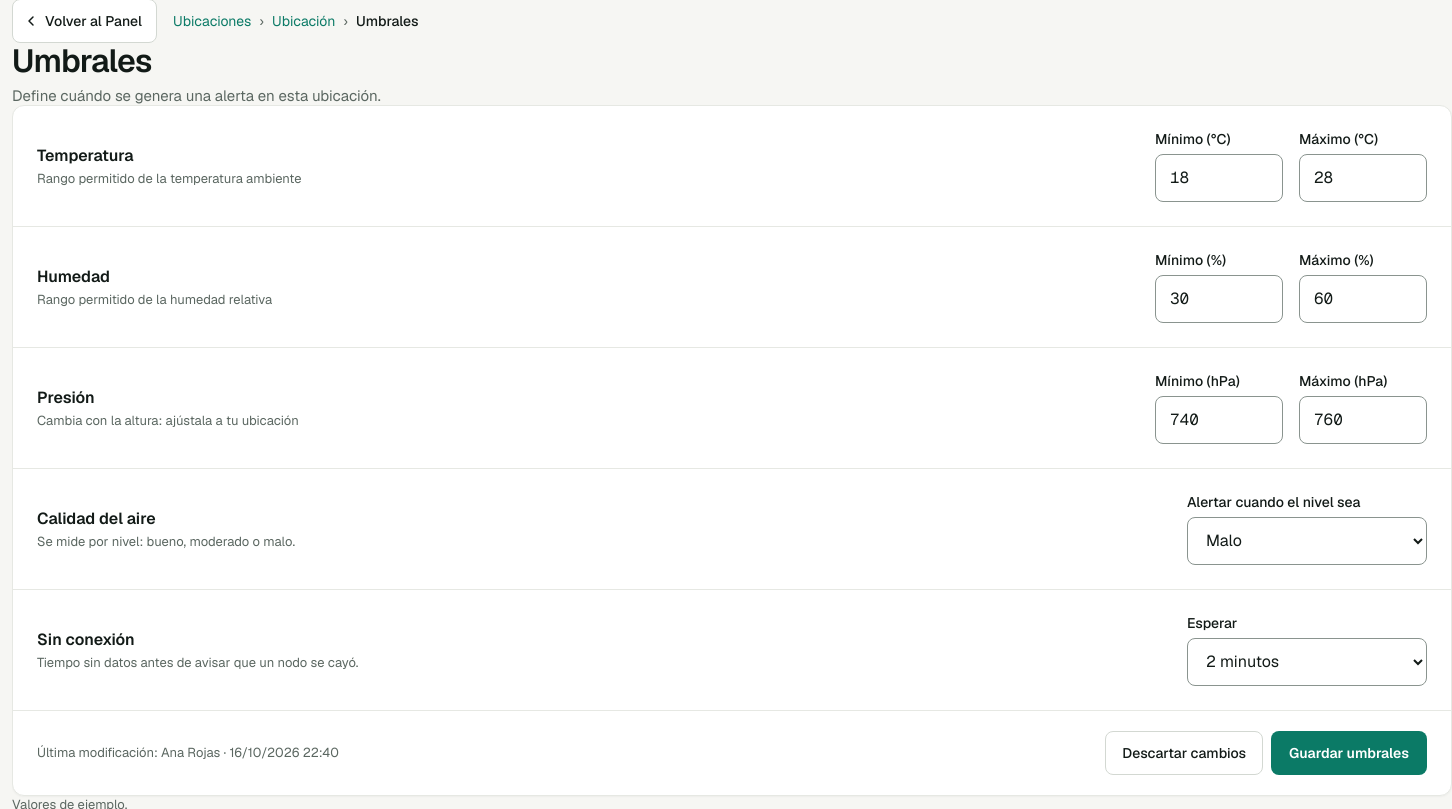
Test: Umbrales › bloquea guardar si el mínimo es inválido: 28
The width and height of the screenshot is (1452, 809).
Replace the text in the number field named "Temperatura: mínimo (°C)" with "28" at (1219, 178), box left=1155, top=154, right=1283, bottom=202
(page scrolled)
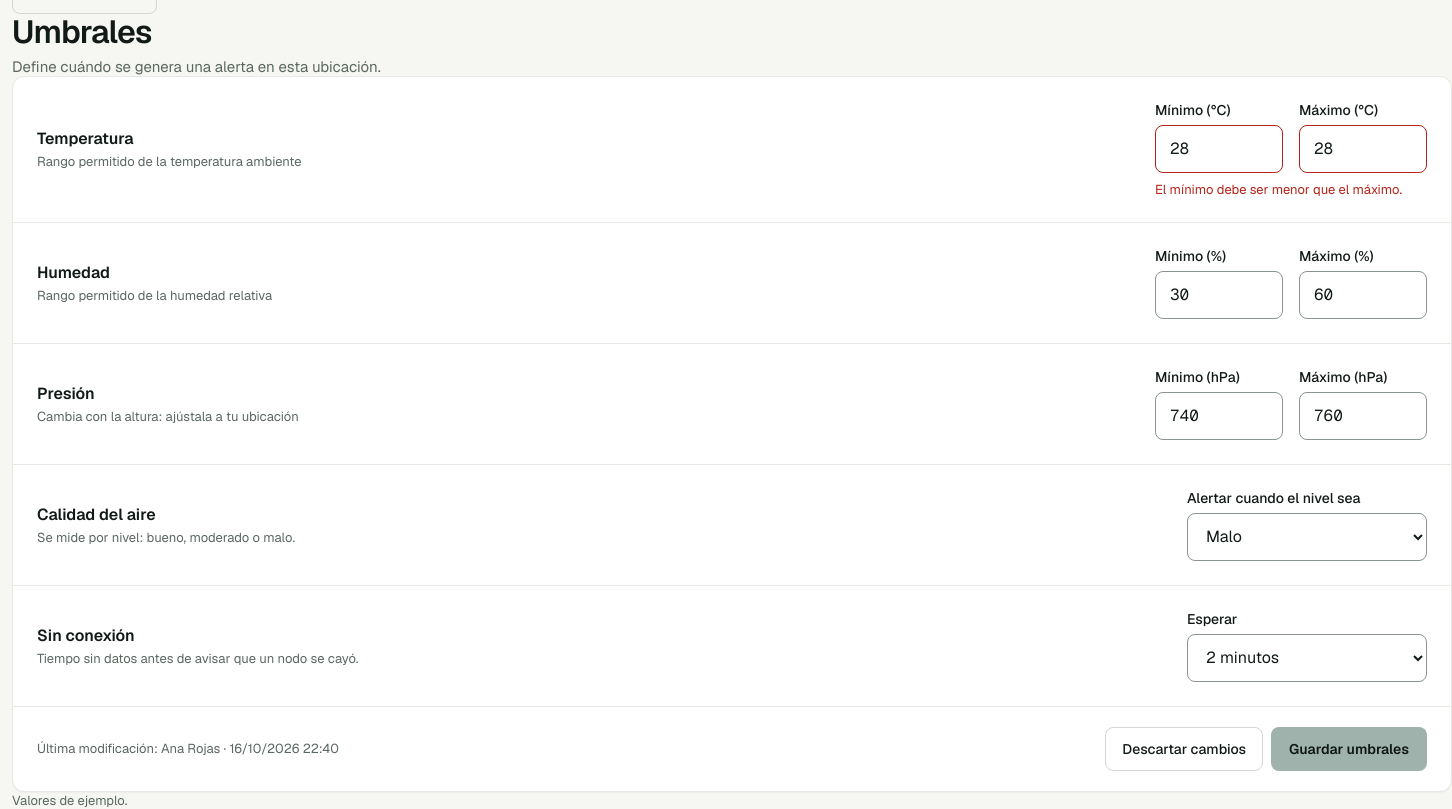
Now the button "Guardar umbrales" is disabled, box left=1271, top=727, right=1427, bottom=771
Submit the form
Replace the text in the number field named "Temperatura: mínimo (°C)" with "19" at (1219, 149), box left=1155, top=125, right=1283, bottom=173
(page scrolled)
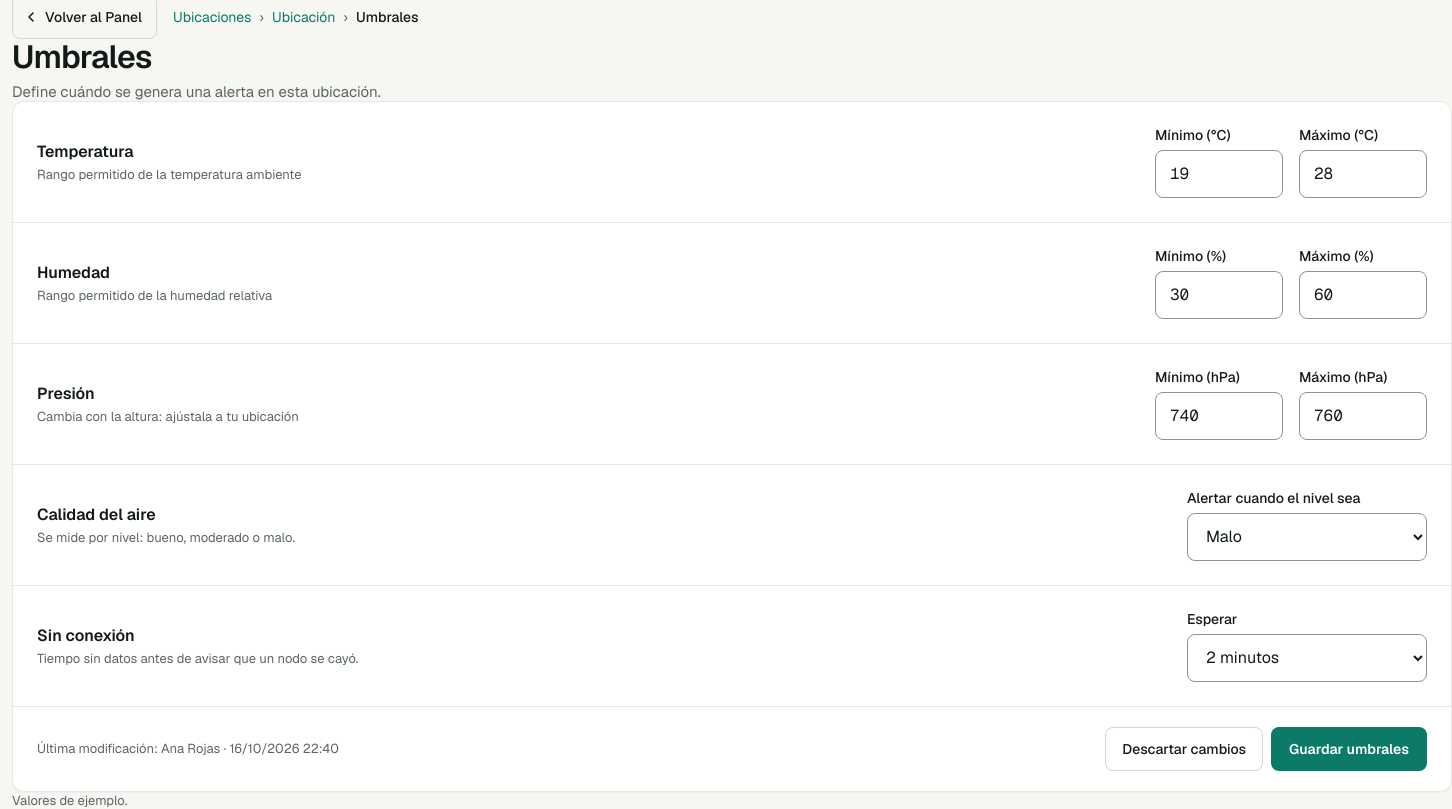
Now the button "Guardar umbrales" is enabled, box left=1271, top=727, right=1427, bottom=771
